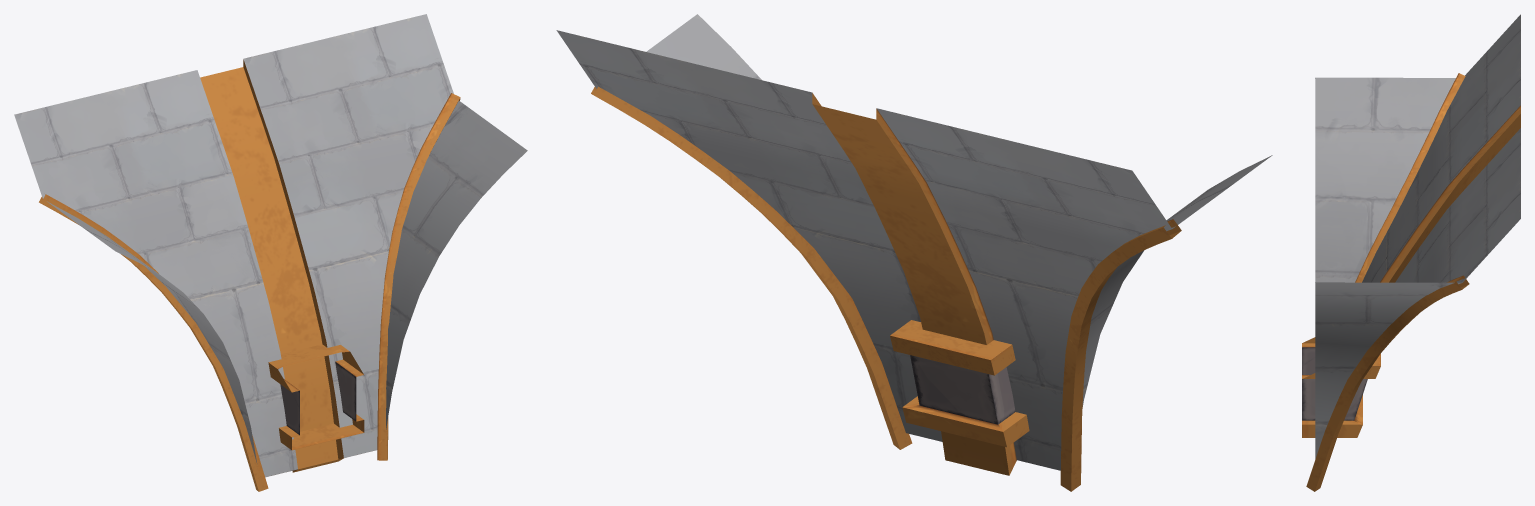
The model's file is SM_CeilingArchBorder.fbx.
3 renders of one model, left to right at view 1: azimuth 30°, elevation 25°; view 2: azimuth 150°, elevation 25°; view 3: azimuth 270°, elevation 25°, orthographic. The views are drawn at different scales.
Parts seen in each view (by area): view 1: SM_CeilingArchBorder; view 2: SM_CeilingArchBorder; view 3: SM_CeilingArchBorder.
Boxes of the visible parts, left/top/right/bottom form: SM_CeilingArchBorder: left=14, top=14, right=527, bottom=491; SM_CeilingArchBorder: left=556, top=14, right=1272, bottom=491; SM_CeilingArchBorder: left=1302, top=14, right=1520, bottom=491.
Size of the model in its own units: 4.08 by 3.13 by 1.81.
